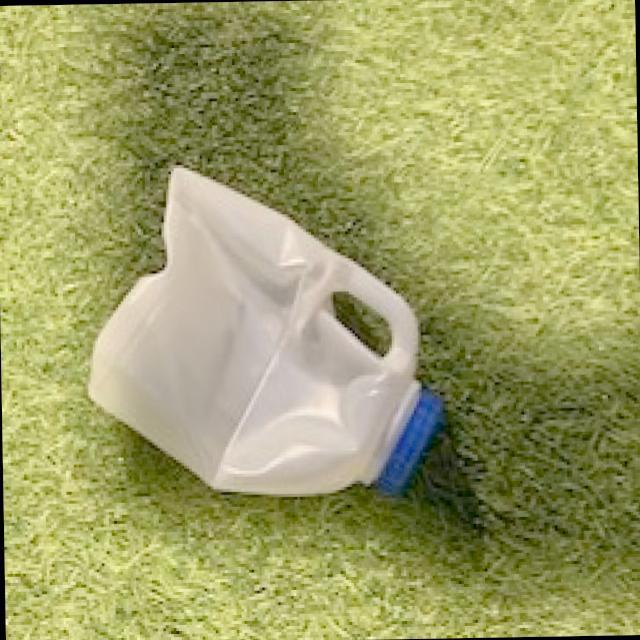HDPE Plastic: (83, 157, 449, 507)
